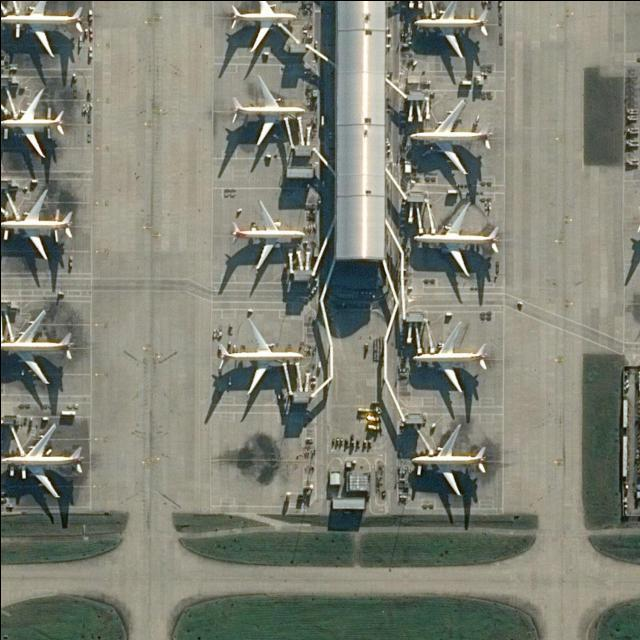Aircraft: (213, 319, 303, 396), (412, 203, 499, 280), (411, 202, 499, 278), (216, 319, 305, 394), (407, 97, 489, 177), (406, 99, 492, 175), (1, 421, 84, 499), (0, 422, 82, 500), (407, 321, 487, 395), (409, 321, 489, 394), (0, 310, 77, 384), (228, 199, 305, 273), (409, 424, 487, 496), (0, 309, 73, 385), (227, 76, 304, 148), (227, 75, 305, 145), (408, 426, 485, 496), (1, 189, 73, 262), (0, 189, 74, 260), (228, 202, 305, 270), (0, 0, 86, 57), (0, 0, 81, 60), (1, 85, 67, 157), (409, 0, 488, 60), (411, 0, 490, 59), (0, 87, 64, 159), (226, 0, 297, 53), (225, 0, 295, 51)
